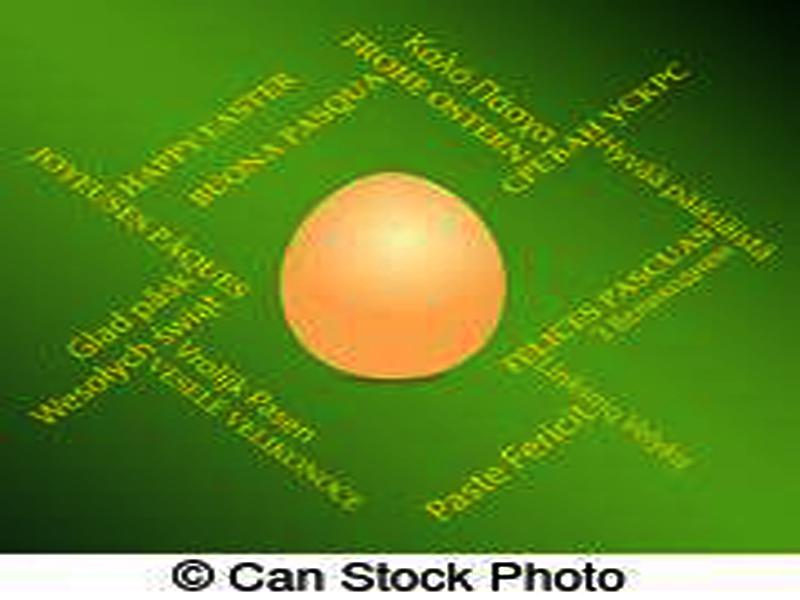Eggs: (280, 172, 502, 378)
